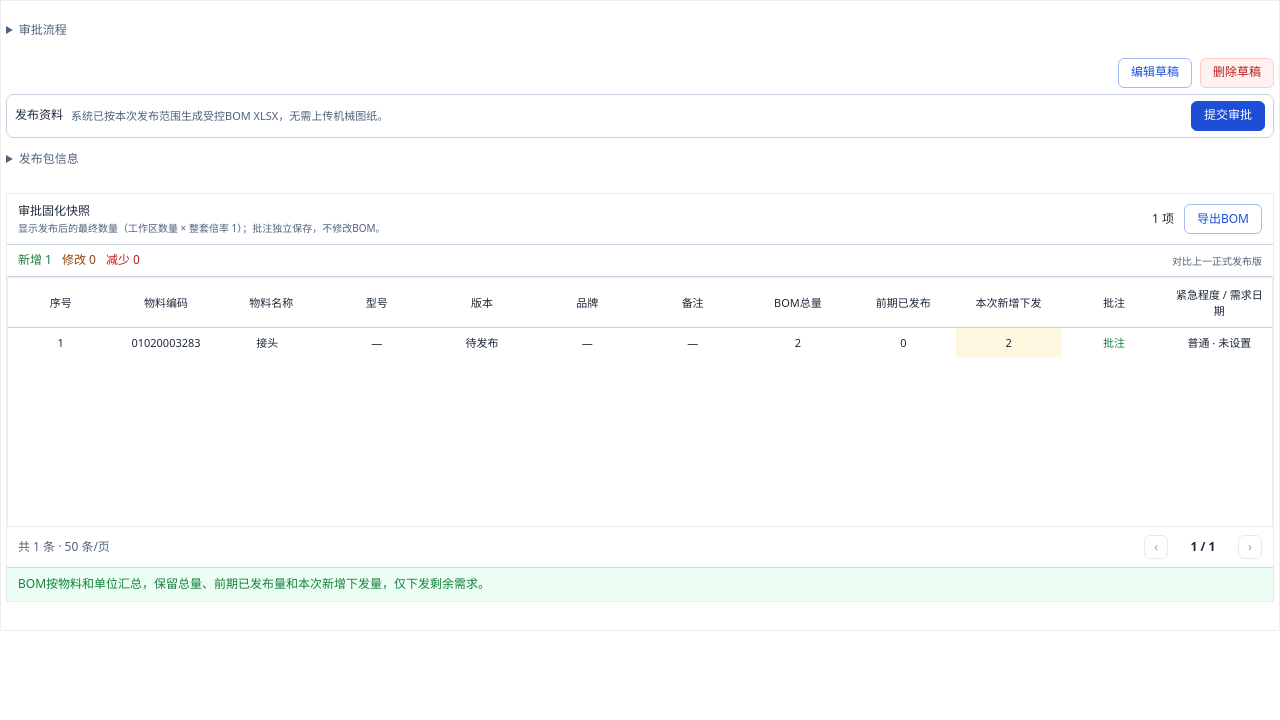
Test: ReleaseCenter › restores a compact draft selection only when all instance IDs are selected: true
Step 1. Click the button "编辑草稿" → click(1155, 73), box [1118,58,1192,88]
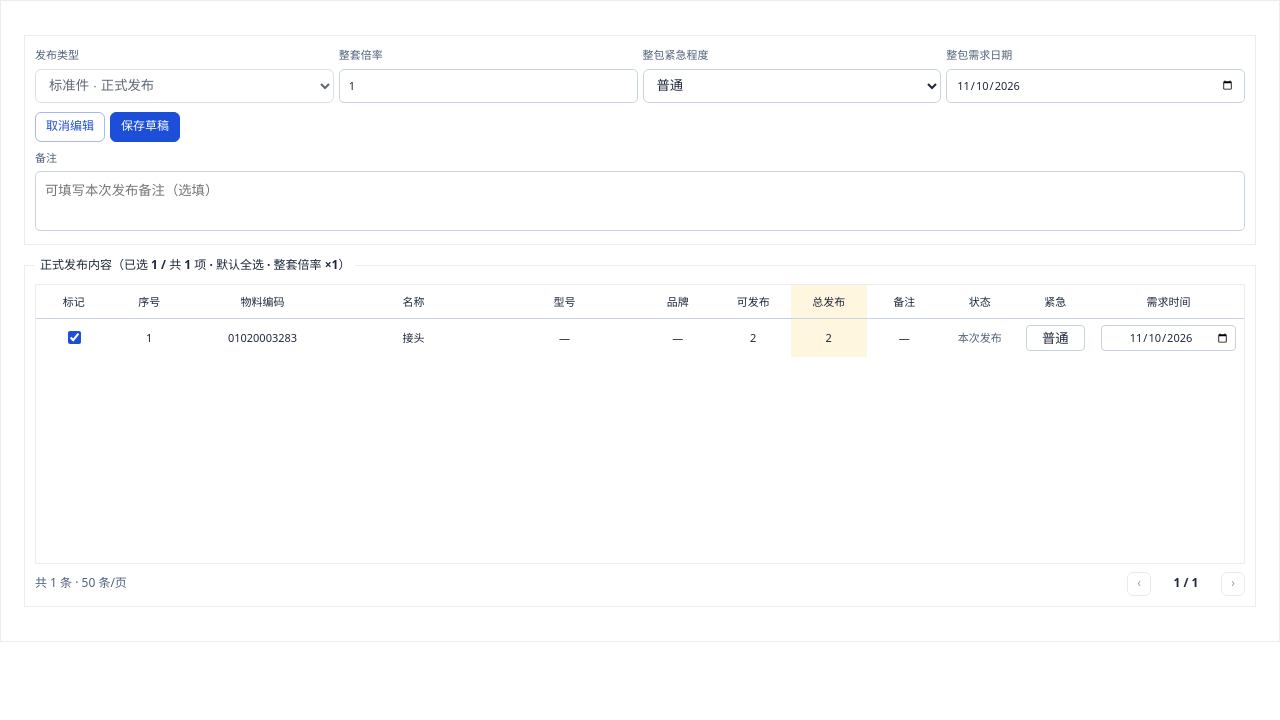
Expected: the checkbox named "本次发布物料 01020003283" is checked, [68,332,81,344]
